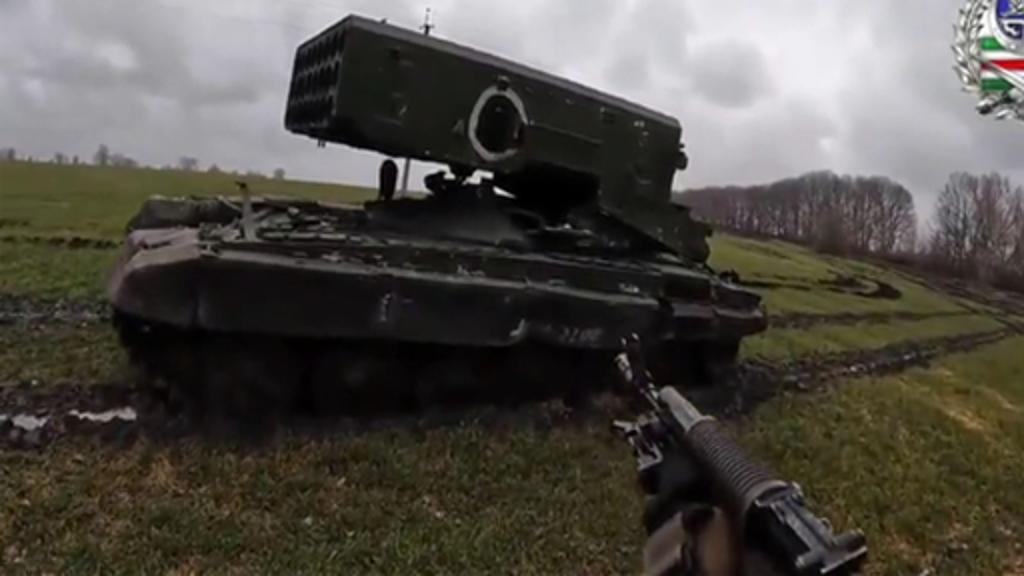MLRS: (108, 12, 762, 392)
